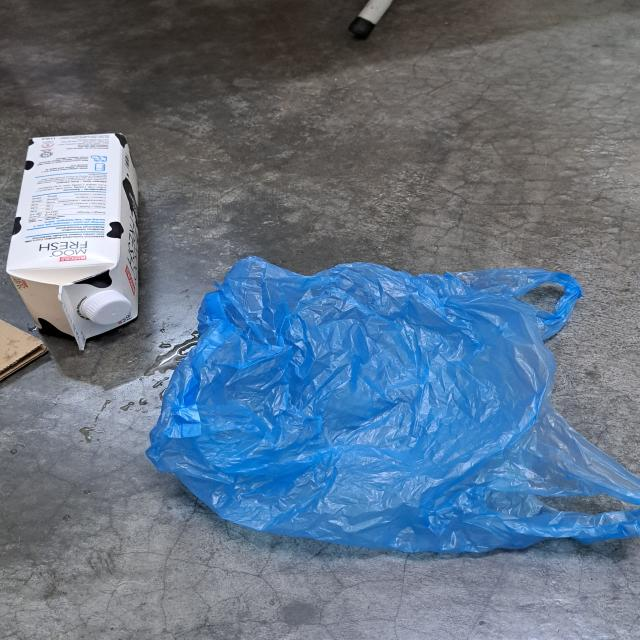cardboard: (0, 318, 50, 386)
drink carton: (7, 133, 139, 349)
plastic bag: (148, 255, 640, 556)
plastic bottle cap: (82, 291, 131, 324)
